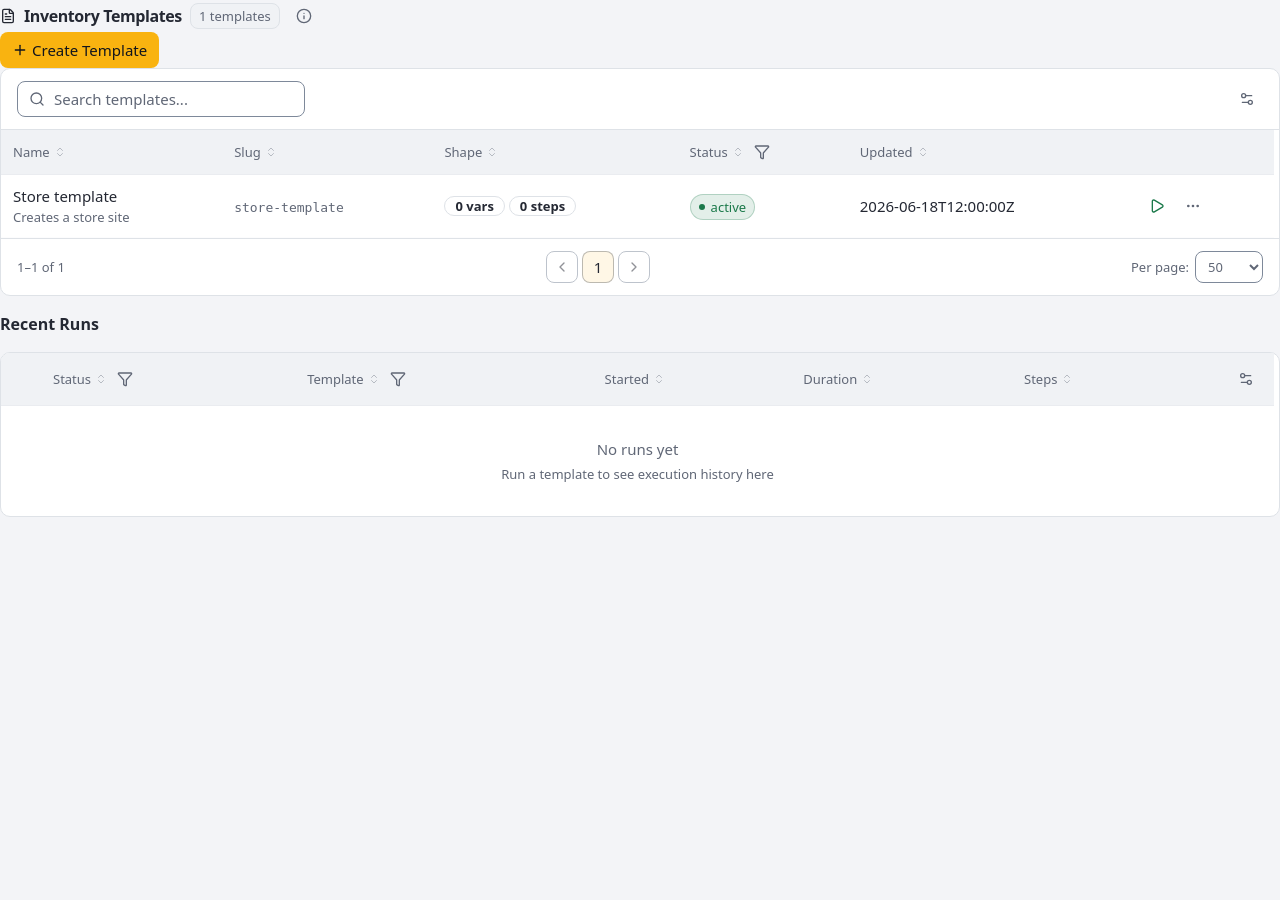
InventoryTemplates deletion › deletes a template and removes it from the list
Expected: the text "Store template" is shown, top-left (13, 186), bottom-right (117, 206)
Press Enter in the button named "Actions: Store template", box top-left (1177, 190), bottom-right (1209, 222)
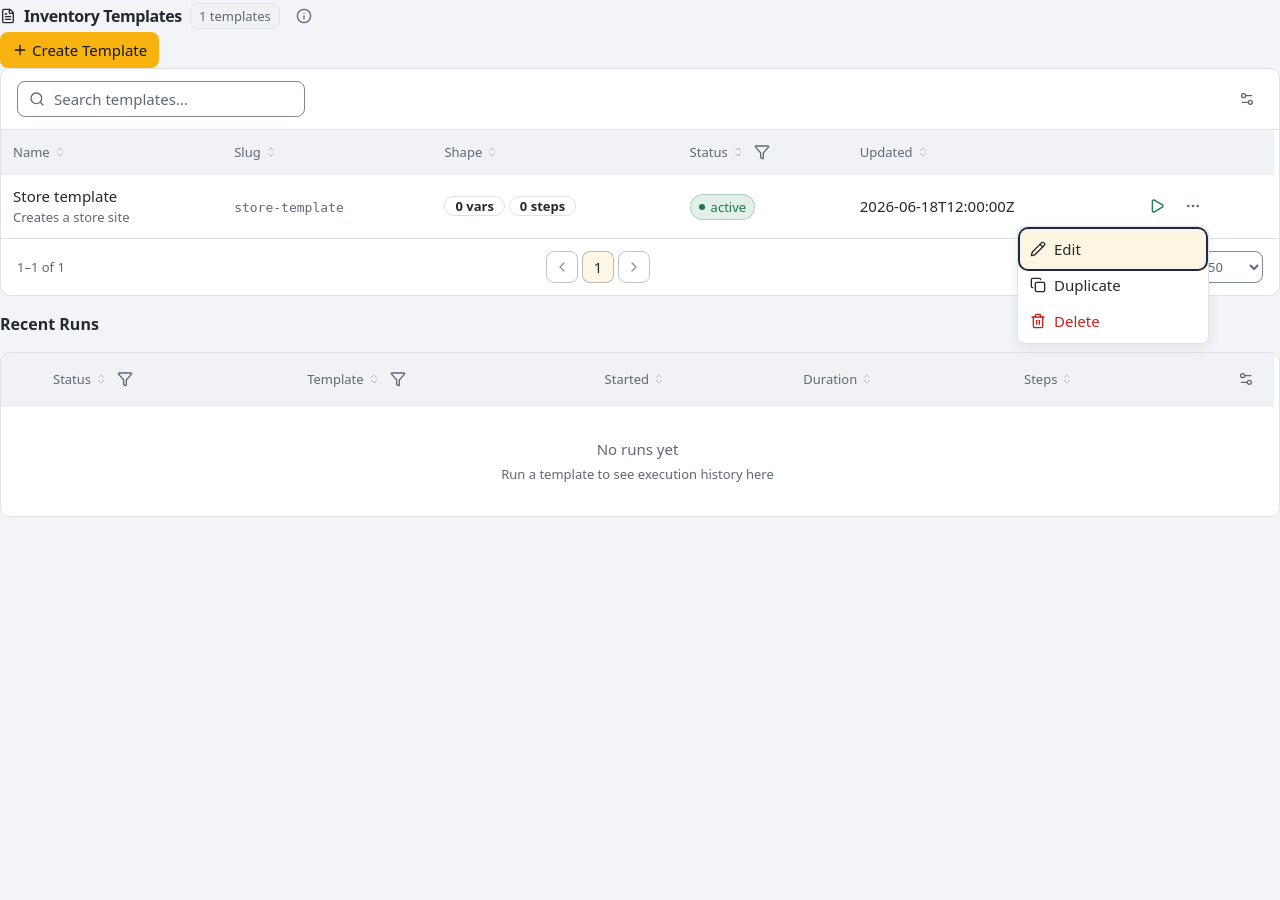
Click the menu item "Delete". click: (1065,321)
box: top-left (1030, 311), bottom-right (1100, 331)
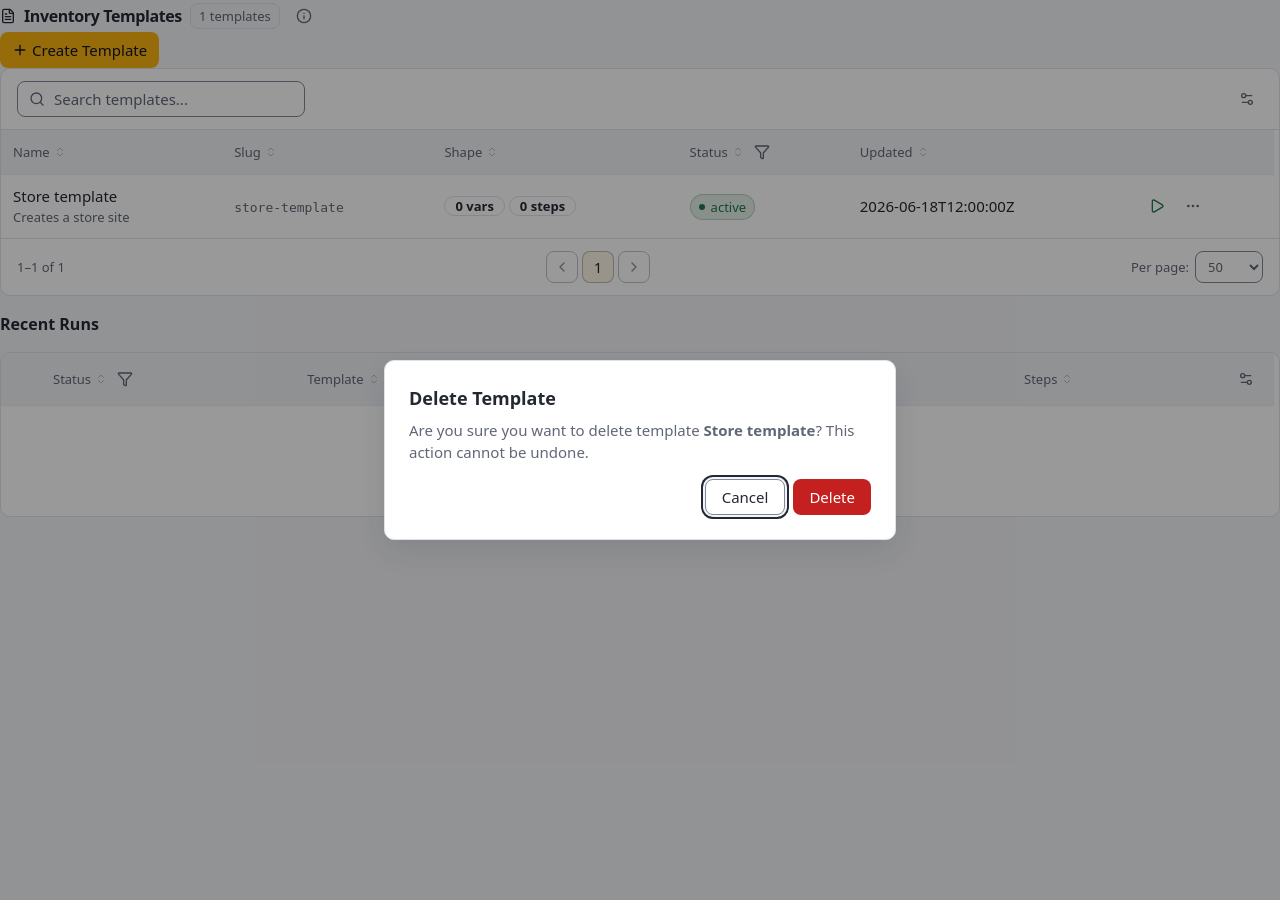
Expected: the heading "Delete Template" is shown, top-left (409, 386), bottom-right (556, 410)
Click the button "Delete". click: (832,497)
box: top-left (793, 479), bottom-right (871, 515)
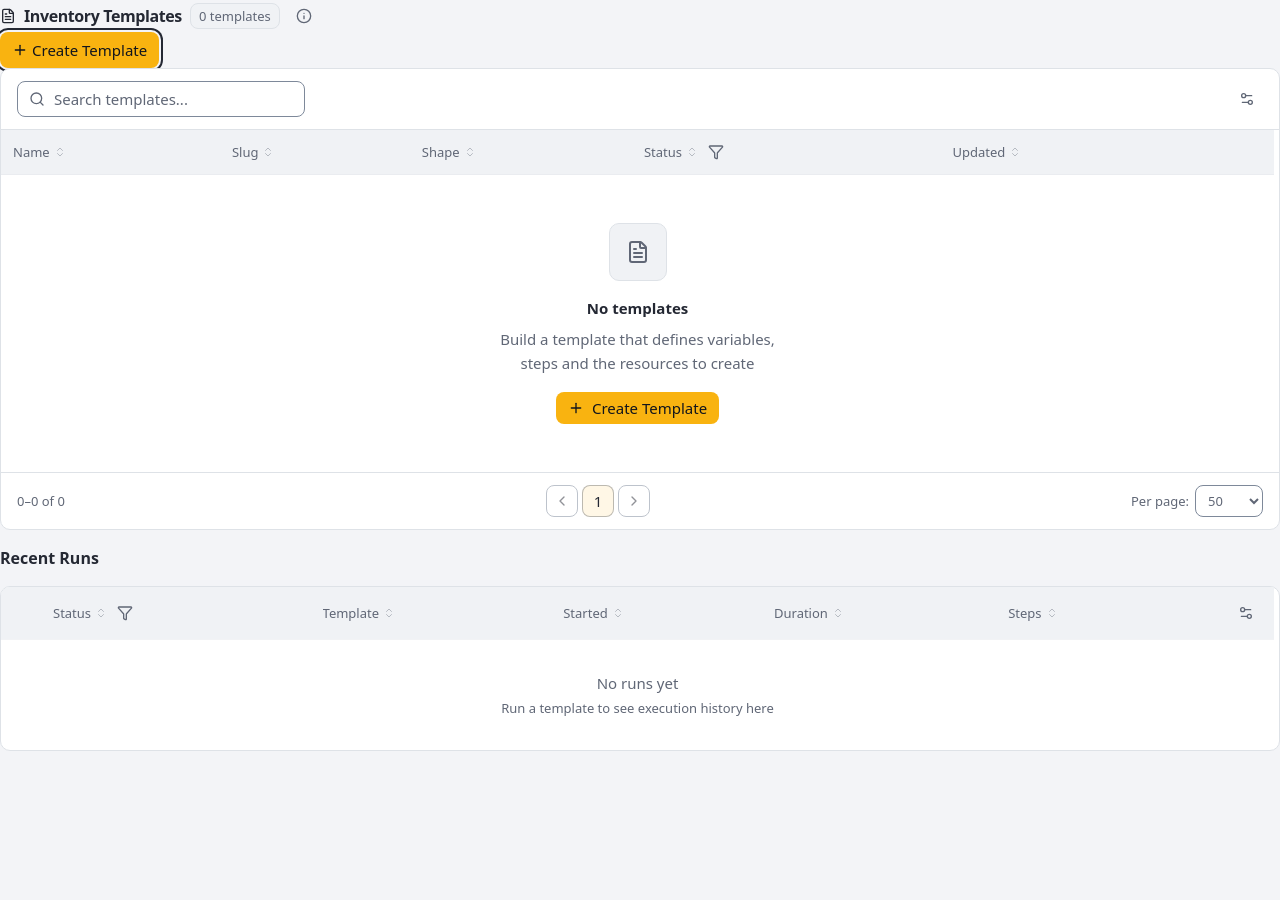
Expected: the button "Store template" is gone
